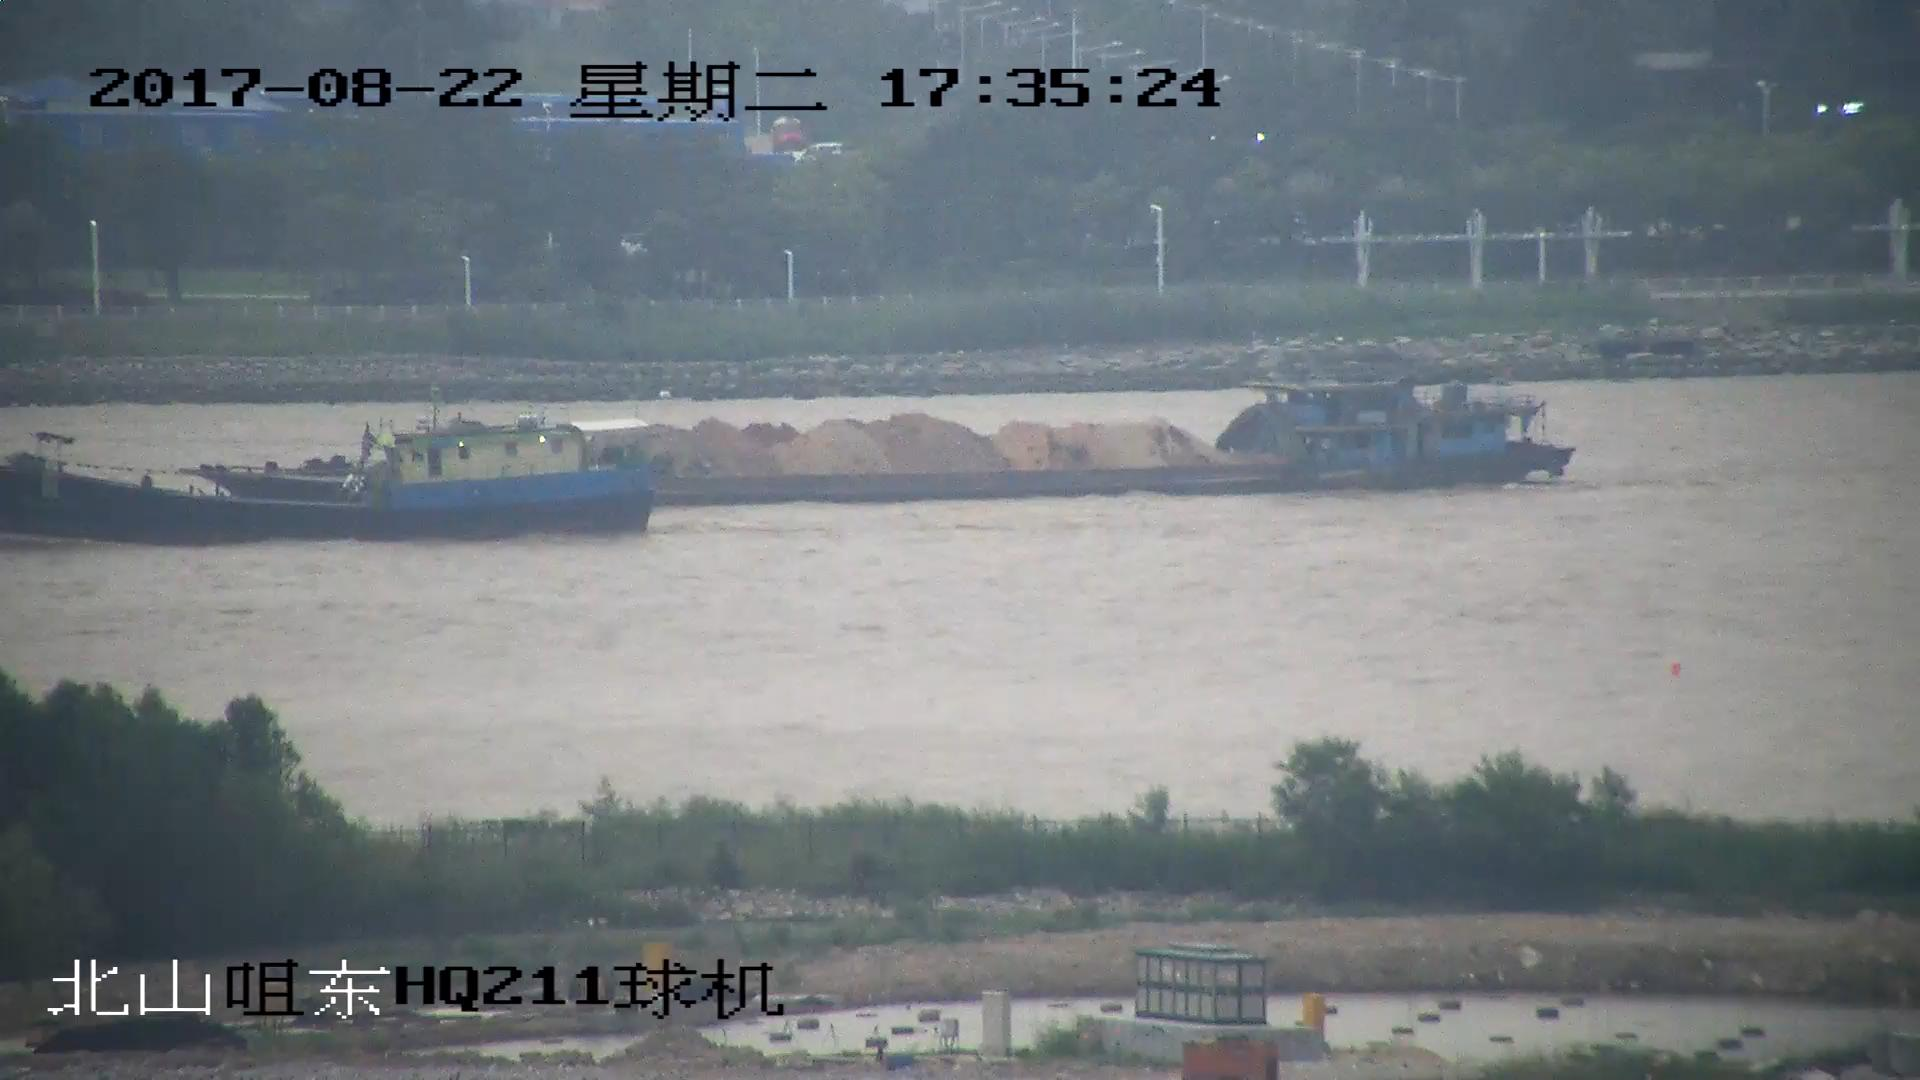fishing boat: (1, 416, 661, 541)
ore carrier: (163, 371, 1572, 497)
